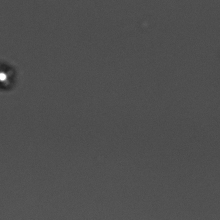Living Cell: (1, 62, 17, 92)
